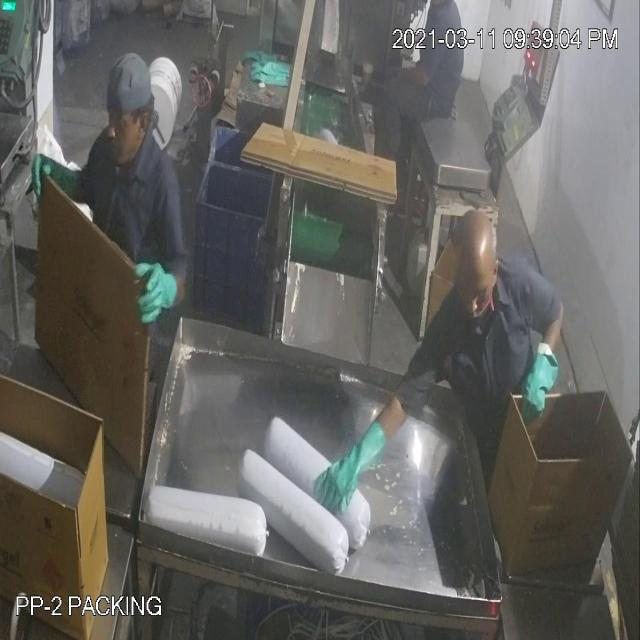gloves: (315, 404, 389, 514), (516, 333, 564, 441)
